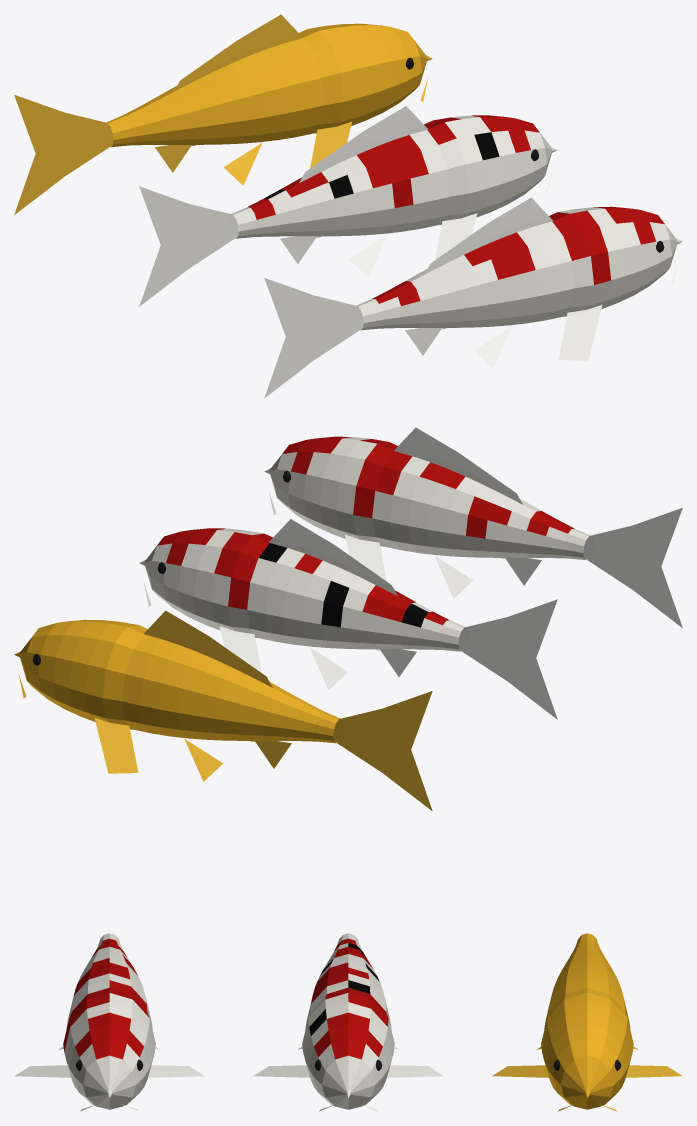
The model's file is koi.glb.
The picture shows the model from 3 angles, top to bottom: view 1: azimuth 30°, elevation 25°; view 2: azimuth 150°, elevation 25°; view 3: azimuth 270°, elevation 25°; orthographic projection. The views are drawn at different scales.
Visible parts, largest first — view 1: Koi_Sanke_Body, Koi_Ogon_Body, Koi_Kohaku_Body, Koi_Ogon_TailFin, Koi_Sanke_TailFin, Koi_Kohaku_TailFin, Koi_Ogon_Dorsal, Koi_Sanke_Dorsal, Koi_Kohaku_Dorsal, Koi_Kohaku_PectoralR, Koi_Ogon_PectoralR, Koi_Sanke_PectoralR (+3 smaller); view 2: Koi_Sanke_Body, Koi_Kohaku_Body, Koi_Ogon_Body, Koi_Kohaku_TailFin, Koi_Sanke_TailFin, Koi_Ogon_TailFin, Koi_Kohaku_Dorsal, Koi_Sanke_Dorsal, Koi_Ogon_Dorsal, Koi_Ogon_PectoralL, Koi_Kohaku_PectoralL, Koi_Sanke_PectoralL (+3 smaller); view 3: Koi_Sanke_Body, Koi_Kohaku_Body, Koi_Ogon_Body, Koi_Kohaku_PectoralR, Koi_Ogon_PectoralL, Koi_Sanke_PectoralL, Koi_Sanke_PectoralR, Koi_Kohaku_PectoralL, Koi_Ogon_PectoralR.
Part boxes in pixels (<box>): Koi_Sanke_Body: <box>231,115,557,238</box>; Koi_Ogon_Body: <box>106,23,432,146</box>; Koi_Kohaku_Body: <box>356,206,682,330</box>; Koi_Ogon_TailFin: <box>14,94,113,215</box>; Koi_Sanke_TailFin: <box>139,186,238,306</box>; Koi_Kohaku_TailFin: <box>264,278,363,397</box>; Koi_Ogon_Dorsal: <box>174,14,302,91</box>; Koi_Sanke_Dorsal: <box>299,106,427,183</box>; Koi_Kohaku_Dorsal: <box>424,197,552,274</box>; Koi_Kohaku_PectoralR: <box>558,305,602,360</box>; Koi_Ogon_PectoralR: <box>310,121,351,168</box>; Koi_Sanke_PectoralR: <box>435,213,477,259</box>; Koi_Sanke_Body: <box>139,528,465,651</box>; Koi_Kohaku_Body: <box>264,436,590,559</box>; Koi_Ogon_Body: <box>14,619,340,743</box>; Koi_Kohaku_TailFin: <box>583,507,682,628</box>; Koi_Sanke_TailFin: <box>458,599,557,719</box>; Koi_Ogon_TailFin: <box>333,691,432,810</box>; Koi_Kohaku_Dorsal: <box>394,427,522,504</box>; Koi_Sanke_Dorsal: <box>269,519,397,596</box>; Koi_Ogon_Dorsal: <box>144,610,272,687</box>; Koi_Ogon_PectoralL: <box>94,718,138,773</box>; Koi_Kohaku_PectoralL: <box>345,534,386,581</box>; Koi_Sanke_PectoralL: <box>219,626,261,672</box>; Koi_Sanke_Body: <box>302,933,394,1109</box>; Koi_Kohaku_Body: <box>63,933,155,1109</box>; Koi_Ogon_Body: <box>541,933,633,1109</box>; Koi_Kohaku_PectoralR: <box>14,1065,71,1077</box>; Koi_Ogon_PectoralL: <box>625,1065,682,1077</box>; Koi_Sanke_PectoralL: <box>387,1065,443,1077</box>; Koi_Sanke_PectoralR: <box>253,1065,309,1077</box>; Koi_Kohaku_PectoralL: <box>148,1065,204,1077</box>; Koi_Ogon_PectoralR: <box>492,1065,548,1077</box>.
Size of the model in its own units: 1.16 by 0.36 by 1.68.
